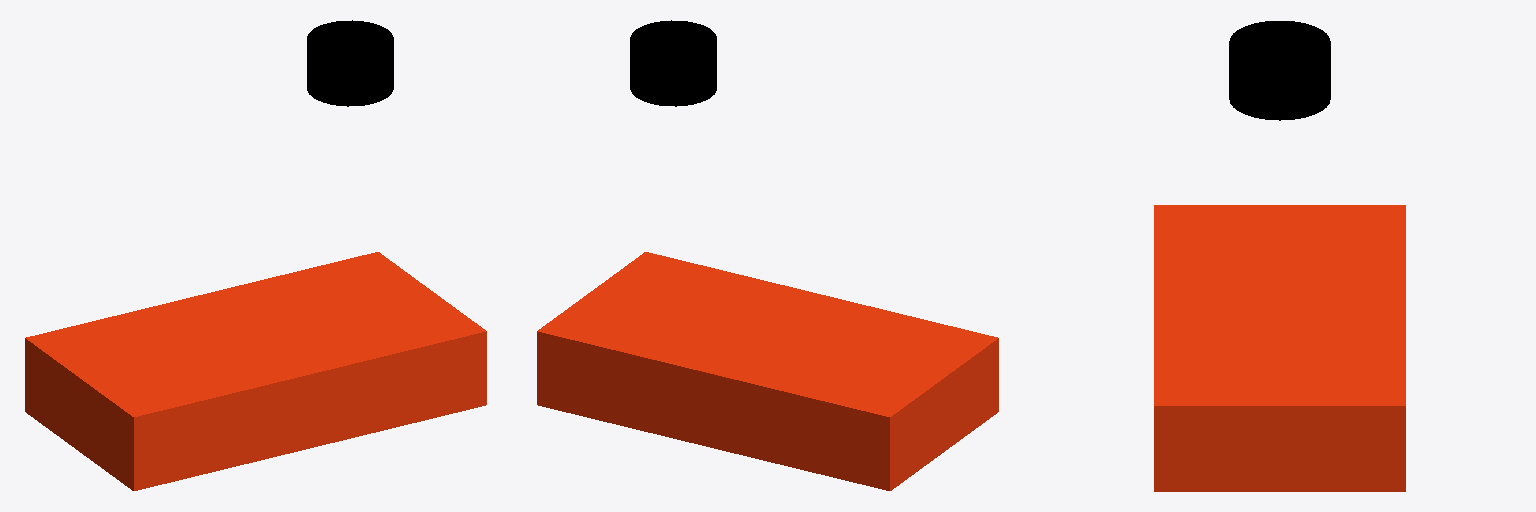
robot.urdf — my_rover:
<?xml version="1.0" ?>
<!-- =================================================================================== -->
<!-- |    This document was autogenerated by xacro from rover.urdf.xacro               | -->
<!-- |    EDITING THIS FILE BY HAND IS NOT RECOMMENDED                                 | -->
<!-- =================================================================================== -->
<robot name="my_rover">
  <!-- Robot Base Link - Chassis -->
  <link name="base_link">
    <!-- Visual representation of the base -->
    <visual>
      <origin rpy="0 0 0" xyz="0 0 0"/>
      <geometry>
        <box size="0.75 0.4 0.15"/>
      </geometry>
      <material name="">
        <color rgba="1.0 0.3 0.1 1.0"/>
      </material>
    </visual>
    <!-- Collision representation of the base (for physics) -->
    <collision>
      <origin rpy="0 0 0" xyz="0 0 0"/>
      <geometry>
        <box size="0.75 0.4 0.15"/>
      </geometry>
    </collision>
    <inertial>
      <mass value="10"/>
      <inertia ixx="1.0" ixy="0.0" ixz="0.0" iyy="1.0" iyz="0.0" izz="1.0"/>
    </inertial>
  </link>
  <gazebo reference="base_link">
    <material> Gazebo/Orange </material>
  </gazebo>
  <!-- camera/sensor/laser mount -->
  <joint name="mount_joint" type="fixed">
    <parent link="base_link"/>
    <child link="mount_link"/>
    <origin rpy="0.0 0.0 0.0" xyz="0.2 0.0 0.28900000000000003"/>
    <axis xyz="0.0 0.0 0.0"/>
  </joint>
  <link name="mount_link">
    <inertial>
      <mass value="0.0"/>
      <origin rpy="0.0 0.0 0.0" xyz="0.0 0.0 0.0"/>
      <inertia ixx="0.0" ixy="0.0" ixz="0.0" iyy="0.0" iyz="0.0" izz="0.0"/>
    </inertial>
    <visual>
      <origin rpy="0.0 0.0 0.0" xyz="0.0 0.0 0.28900000000000003"/>
      <geometry>
        <cylinder length="0.1" radius="0.08"/>
      </geometry>
      <material name="">
        <color rgba="0.0 0.0 0.0 1.0"/>
      </material>
    </visual>
    <collision>
      <origin rpy="0.0 0.0 0.0" xyz="0.0 0.0 0.28900000000000003"/>
      <geometry>
        <cylinder length="0.1" radius="0.08"/>
      </geometry>
    </collision>
  </link>
  <gazebo reference="mount_link">
    <material> Gazebo/Black</material>
  </gazebo>
  <joint name="front_left_wheel_joint" type="continuous">
    <origin rpy="0 0 0" xyz="0.3 0.2 -0.05"/>
    <parent link="base_link"/>
    <child link="front_left_wheel"/>
    <axis xyz="0 1 0"/>
  </joint>
  <!-- Front Right Wheel -->
  <link name="front_left_wheel">
    <visual>
      <origin rpy="0 0 0" xyz="0.3 0.2 -0.05"/>
      <geometry>
        <mesh filename="package://mobile_robot/meshes/left_tire.stl" scale="0.005 0.005 0.005"/>
         #length = 0.018 radius = &quot;0.033&quot;
                
      </geometry>
      <material name="">
        <color rgba="1.0 0.0 0.0 1.0"/>
      </material>
    </visual>
    <collision>
      <origin rpy="0 0 0" xyz="0.3 0.2 -0.05"/>
      <geometry>
        <cylinder length="0.18" radius="0.033"/>
      </geometry>
    </collision>
  </link>
  <gazebo reference="front_left_wheel">
    <material> Gazebo/Red </material>
    <mu1 value="0.001"/>
    <mu2 value="0.001"/>
    <kp value="10000000.0"/>
    <kd value="1.0"/>
  </gazebo>
  <transmission name="front_left_wheel_trans">
    <type>transmission_interface/SimpleTransmission</type>
    <actuator name="front_left_wheel_motor">
      <mechanicalReduction>1</mechanicalReduction>
    </actuator>
    <joint name="front_left_wheel_joint">
      <hardwareInterface>hardware_interface/VelocityJointInterface</hardwareInterface>
    </joint>
  </transmission>
  <joint name="front_right_wheel_joint" type="continuous">
    <origin rpy="0 0 0" xyz="0.3 -0.2 -0.05"/>
    <parent link="base_link"/>
    <child link="front_right_wheel"/>
    <axis xyz="0 1 0"/>
  </joint>
  <!-- Front Right Wheel -->
  <link name="front_right_wheel">
    <visual>
      <origin rpy="0 0 0" xyz="0.3 -0.2 -0.05"/>
      <geometry>
        <mesh filename="package://mobile_robot/meshes/right_tire.stl" scale="0.005 0.005 0.005"/>
         #length = 0.018 radius = &quot;0.033&quot;
                
      </geometry>
      <material name="">
        <color rgba="1.0 0.0 0.0 1.0"/>
      </material>
    </visual>
    <collision>
      <origin rpy="0 0 0" xyz="0.3 -0.2 -0.05"/>
      <geometry>
        <cylinder length="0.18" radius="0.033"/>
      </geometry>
    </collision>
  </link>
  <gazebo reference="front_right_wheel">
    <material> Gazebo/Red </material>
    <mu1 value="0.001"/>
    <mu2 value="0.001"/>
    <kp value="10000000.0"/>
    <kd value="1.0"/>
  </gazebo>
  <transmission name="front_right_wheel_trans">
    <type>transmission_interface/SimpleTransmission</type>
    <actuator name="front_right_wheel_motor">
      <mechanicalReduction>1</mechanicalReduction>
    </actuator>
    <joint name="front_right_wheel_joint">
      <hardwareInterface>hardware_interface/VelocityJointInterface</hardwareInterface>
    </joint>
  </transmission>
  <joint name="rear_left_wheel_joint" type="continuous">
    <origin rpy="0 0 0" xyz="-0.3 0.2 -0.05"/>
    <parent link="base_link"/>
    <child link="rear_left_wheel"/>
    <axis xyz="0 1 0"/>
  </joint>
  <!-- Front Right Wheel -->
  <link name="rear_left_wheel">
    <visual>
      <origin rpy="0 0 0" xyz="-0.3 0.2 -0.05"/>
      <geometry>
        <mesh filename="package://mobile_robot/meshes/left_tire.stl" scale="0.005 0.005 0.005"/>
         #length = 0.018 radius = &quot;0.033&quot;
                
      </geometry>
      <material name="">
        <color rgba="1.0 0.0 0.0 1.0"/>
      </material>
    </visual>
    <collision>
      <origin rpy="0 0 0" xyz="-0.3 0.2 -0.05"/>
      <geometry>
        <cylinder length="0.18" radius="0.033"/>
      </geometry>
    </collision>
  </link>
  <gazebo reference="rear_left_wheel">
    <material> Gazebo/Red </material>
    <mu1 value="0.001"/>
    <mu2 value="0.001"/>
    <kp value="10000000.0"/>
    <kd value="1.0"/>
  </gazebo>
  <transmission name="rear_left_wheel_trans">
    <type>transmission_interface/SimpleTransmission</type>
    <actuator name="rear_left_wheel_motor">
      <mechanicalReduction>1</mechanicalReduction>
    </actuator>
    <joint name="rear_left_wheel_joint">
      <hardwareInterface>hardware_interface/VelocityJointInterface</hardwareInterface>
    </joint>
  </transmission>
  <joint name="rear_right_wheel_joint" type="continuous">
    <origin rpy="0 0 0" xyz="-0.3 -0.2 -0.05"/>
    <parent link="base_link"/>
    <child link="rear_right_wheel"/>
    <axis xyz="0 1 0"/>
  </joint>
  <!-- Front Right Wheel -->
  <link name="rear_right_wheel">
    <visual>
      <origin rpy="0 0 0" xyz="-0.3 -0.2 -0.05"/>
      <geometry>
        <mesh filename="package://mobile_robot/meshes/right_tire.stl" scale="0.005 0.005 0.005"/>
         #length = 0.018 radius = &quot;0.033&quot;
                
      </geometry>
      <material name="">
        <color rgba="1.0 0.0 0.0 1.0"/>
      </material>
    </visual>
    <collision>
      <origin rpy="0 0 0" xyz="-0.3 -0.2 -0.05"/>
      <geometry>
        <cylinder length="0.18" radius="0.033"/>
      </geometry>
    </collision>
  </link>
  <gazebo reference="rear_right_wheel">
    <material> Gazebo/Red </material>
    <mu1 value="0.001"/>
    <mu2 value="0.001"/>
    <kp value="10000000.0"/>
    <kd value="1.0"/>
  </gazebo>
  <transmission name="rear_right_wheel_trans">
    <type>transmission_interface/SimpleTransmission</type>
    <actuator name="rear_right_wheel_motor">
      <mechanicalReduction>1</mechanicalReduction>
    </actuator>
    <joint name="rear_right_wheel_joint">
      <hardwareInterface>hardware_interface/VelocityJointInterface</hardwareInterface>
    </joint>
  </transmission>
</robot>

--- Facts derived from the render (not from the file) ---
3 views of the same robot in one strip: view 1: azimuth 30°, elevation 25°; view 2: azimuth 150°, elevation 25°; view 3: azimuth 270°, elevation 25° (orthographic).
Robot: my_rover — 6 links, 5 joints (4 continuous, 1 fixed); root link base_link; default pose: every joint at zero.
Links seen in each view (by area): view 1: base_link, mount_link; view 2: base_link, mount_link; view 3: base_link, mount_link.
Link boxes in pixels (<box>): base_link: <box>25,252,486,490</box>; mount_link: <box>307,20,393,106</box>; base_link: <box>537,252,998,490</box>; mount_link: <box>630,20,716,106</box>; base_link: <box>1154,205,1405,491</box>; mount_link: <box>1229,21,1330,120</box>.
Bounding box of the posed robot: 0.75 × 0.4 × 0.703 m (x, y, z).
Meshes: 2 distinct files referenced, 0 mesh visuals loaded (none loaded); not drawn: 4 (reference not matched to a file when rendering).